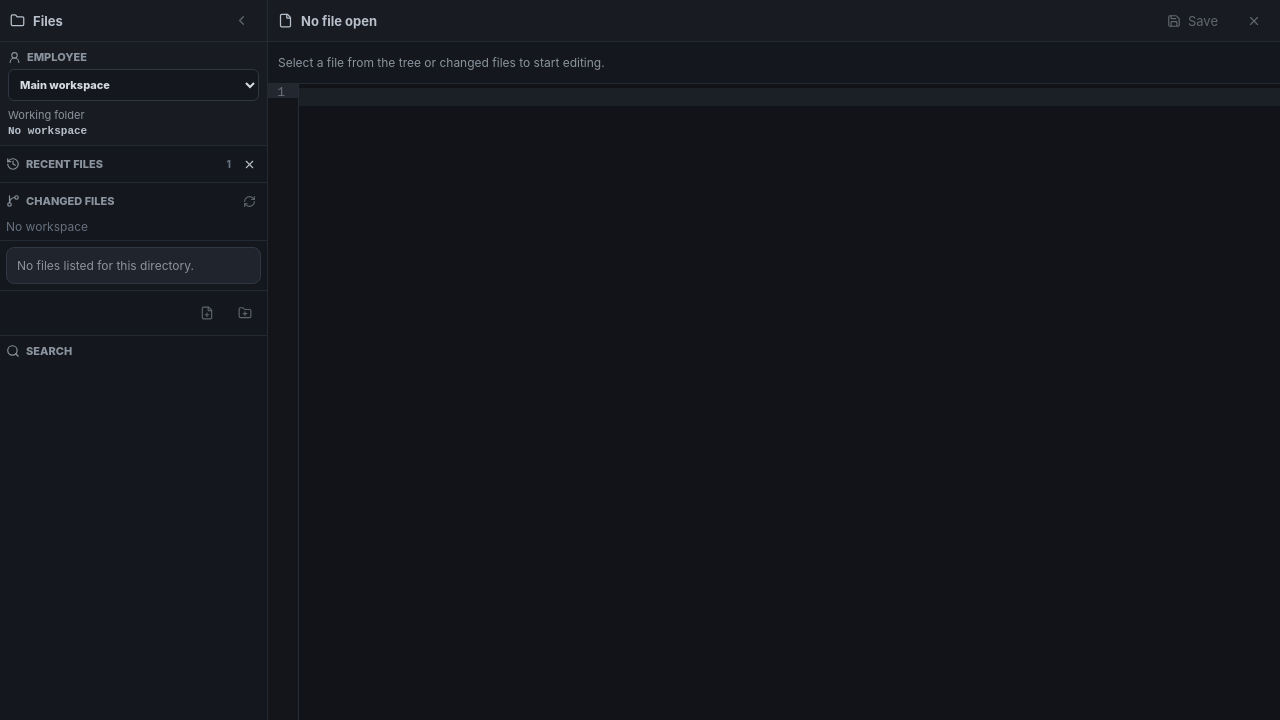
Test: EditorPane › keeps recent files collapsed but still clearable
This screenshot has width=1280, height=720.
Expected: the text "Recent files" is shown, [6,157,103,171]
Click the button titled "Clear recent files" at (249, 164), box [237,152,261,176]
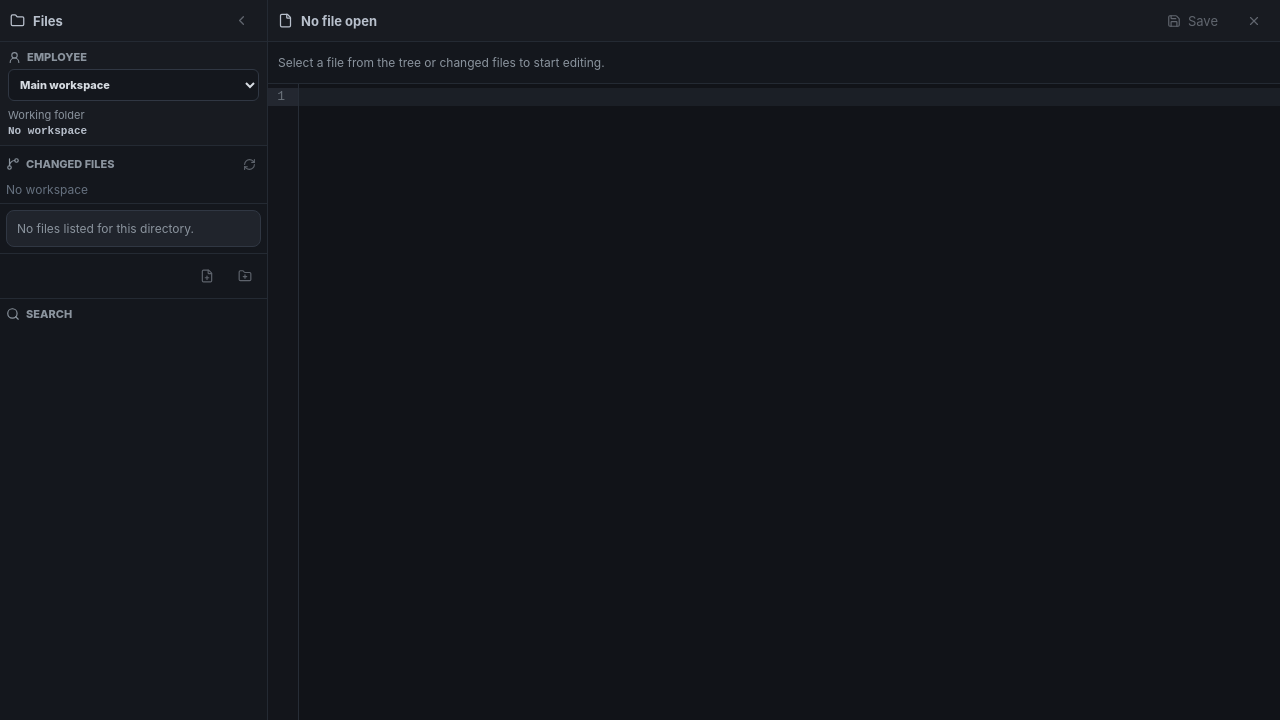
Expected: the heading "Recent files" is gone
